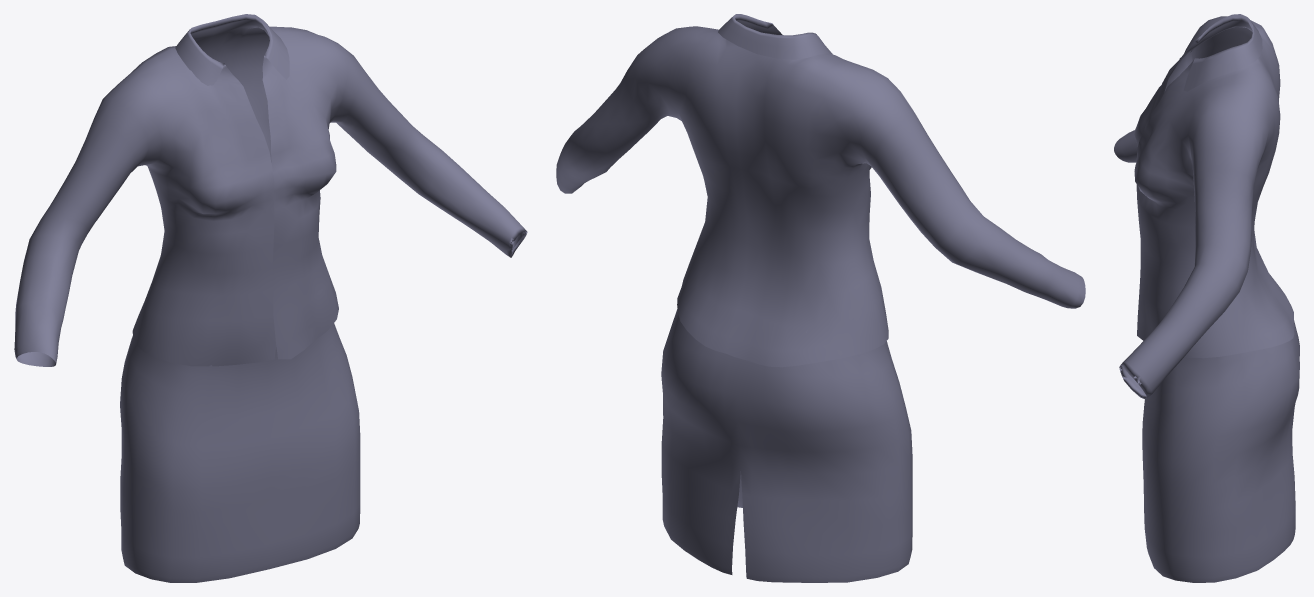
The model's file is f-elegant01.glb.
The picture shows the model from 3 angles, left to right: view 1: azimuth 30°, elevation 25°; view 2: azimuth 150°, elevation 25°; view 3: azimuth 270°, elevation 25°; orthographic projection. The views are drawn at different scales.
Visible parts, largest first — view 1: f-elegant01; view 2: f-elegant01; view 3: f-elegant01.
Boxes of the visible parts, x1=… form: f-elegant01: x1=14, y1=14, x2=527, y2=582; f-elegant01: x1=556, y1=14, x2=1085, y2=582; f-elegant01: x1=1114, y1=14, x2=1299, y2=582.
Bounding box in the file's own units: 0.8622 × 0.8327 × 0.2773.
